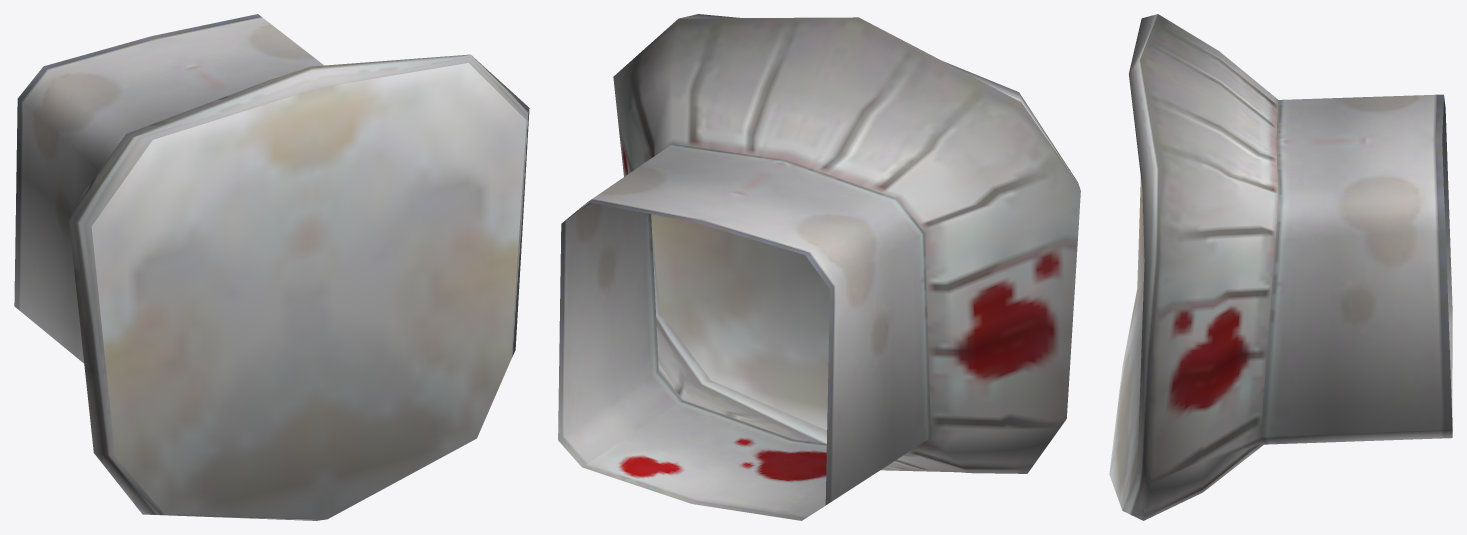
File: Zombie_FatCook_H_Cap_54d66a62__Zombie_FatCook_Green_02_c1a59083_c1f257.obj
3 renders of one model, left to right at view 1: azimuth 30°, elevation 25°; view 2: azimuth 150°, elevation 25°; view 3: azimuth 270°, elevation 25°, orthographic. The views are drawn at different scales.
Size of the model in its own units: 1.36 by 1.27 by 0.9281.
Materials: 1 (1 with a texture image).
